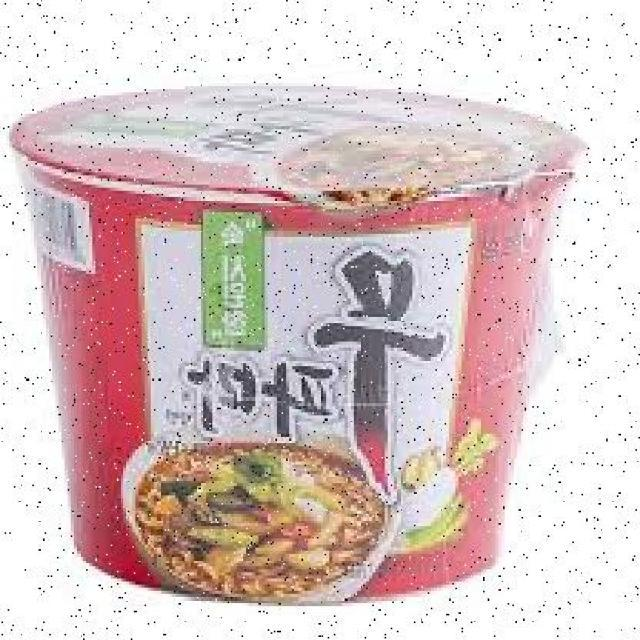Miscellaneous: (28, 82, 580, 604)
